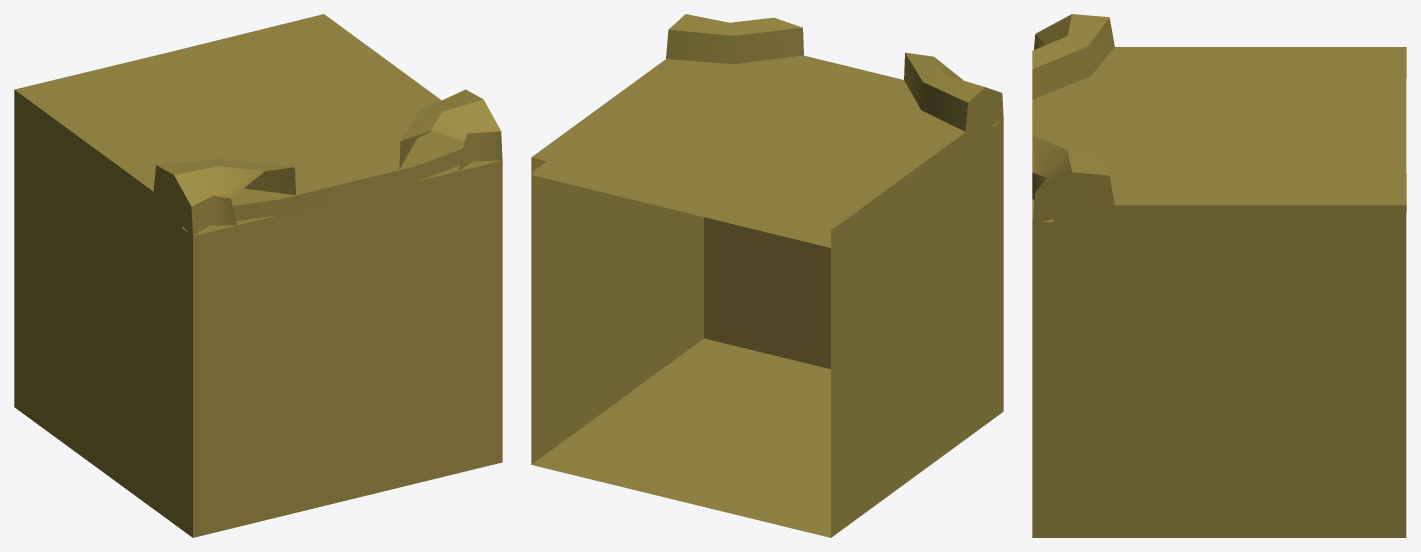
File: Int_4_Block_Corners_U.fbx
3 views of the same model, side by side, from view 1: azimuth 30°, elevation 25°; view 2: azimuth 150°, elevation 25°; view 3: azimuth 270°, elevation 25° (orthographic). The views are drawn at different scales.
Visible parts, largest first — view 1: Int_4_Block_Corners_U; view 2: Int_4_Block_Corners_U; view 3: Int_4_Block_Corners_U.
Part boxes in pixels (<box>): Int_4_Block_Corners_U: <box>14,14,502,537</box>; Int_4_Block_Corners_U: <box>531,14,1003,537</box>; Int_4_Block_Corners_U: <box>1032,14,1406,537</box>.
Size of the model in its own units: 1 by 1.08 by 1.
